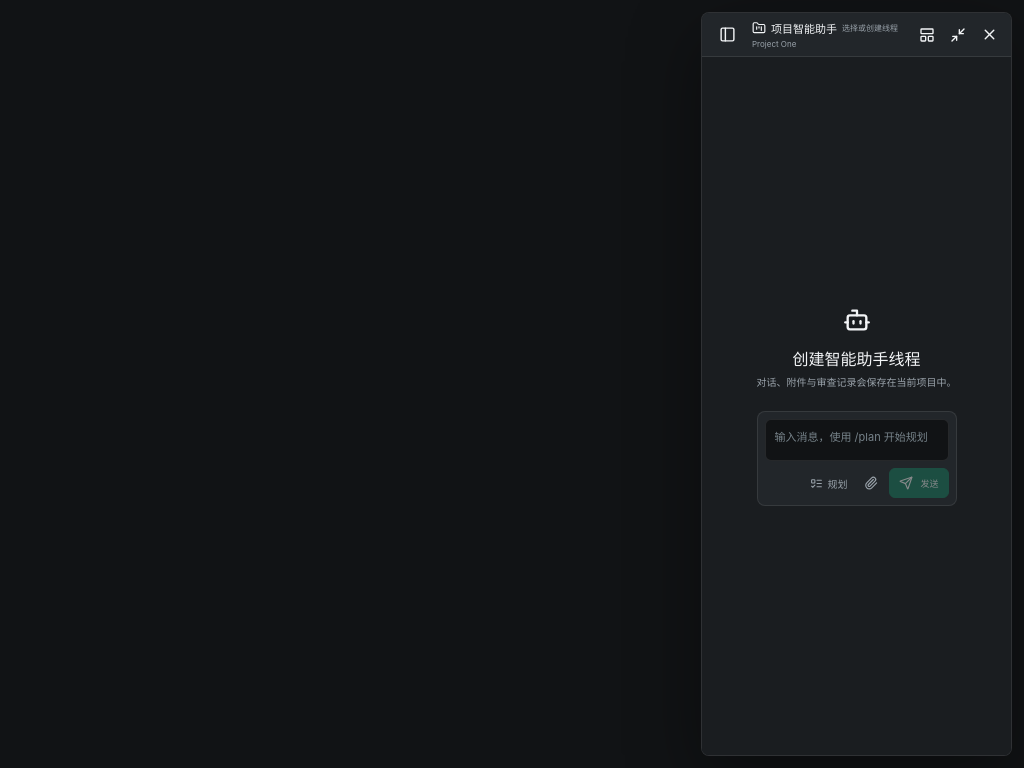
Test: Assist V3 synchronization and surface controls › combines surface choices into one layout menu and keeps minimize and close visible
The width and height of the screenshot is (1024, 768).
expect the header with class "assist-workbench-head" does not show "live": met, box x1=702 y1=13 x2=1011 y2=57
expect the button named "最小化智能助手" is shown: met, box x1=943 y1=20 x2=973 y2=50
Click the button named "智能助手布局": (927,34) x1=912 y1=20 x2=942 y2=50
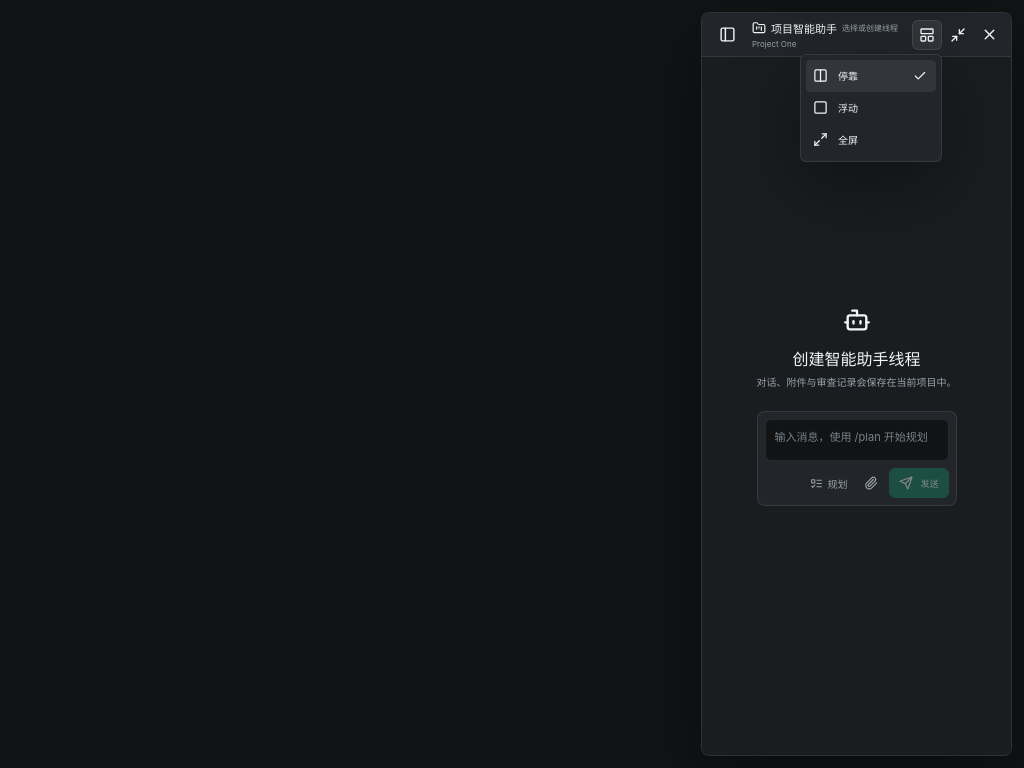
expect the number of menu items is 3: met
Click the menu item "浮动": (871,108) x1=806 y1=92 x2=936 y2=124
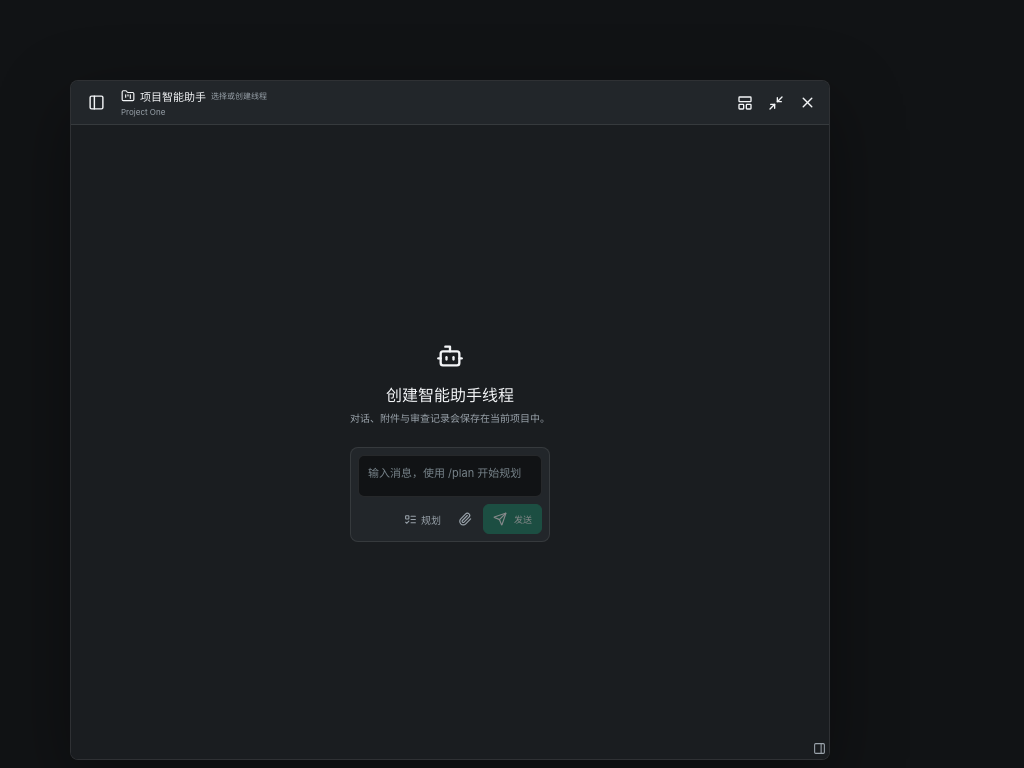
expect the menu is gone: met
